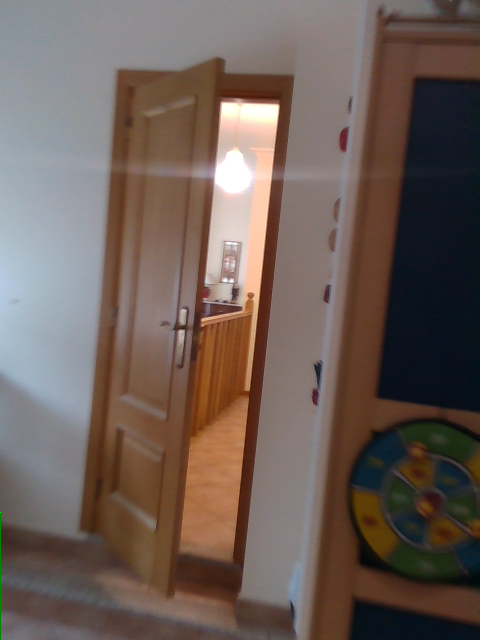semi: (95, 55, 297, 610)
